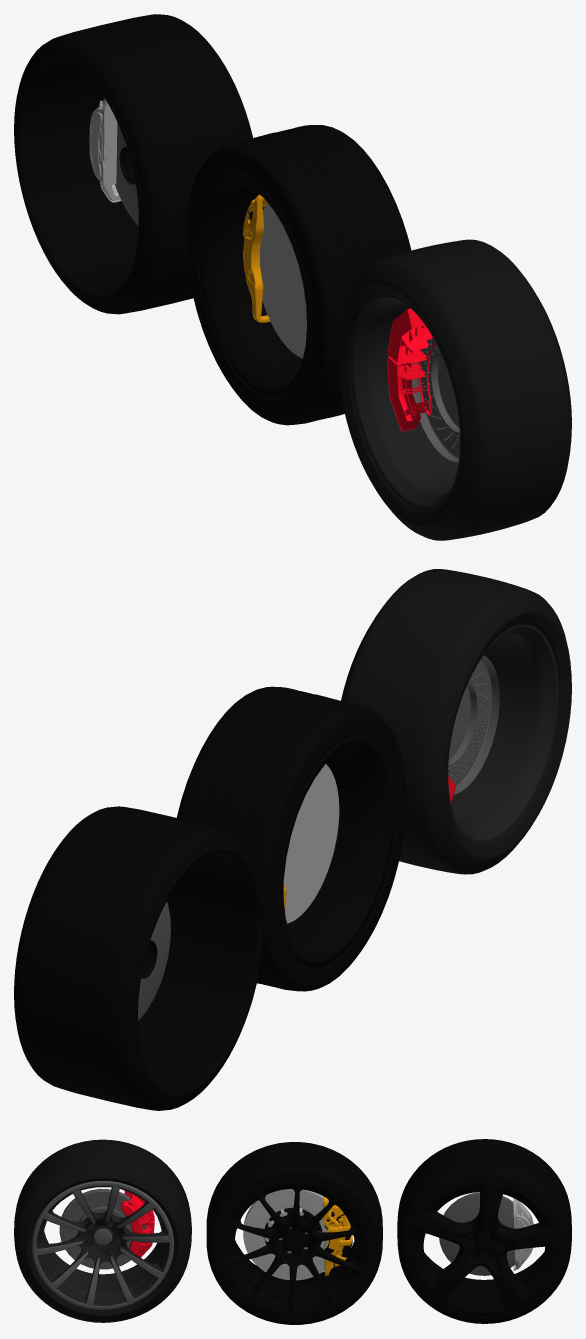
File: wheel-pack.glb
3 renders of one model, top to bottom at view 1: azimuth 30°, elevation 25°; view 2: azimuth 150°, elevation 25°; view 3: azimuth 270°, elevation 25°, orthographic. The views are drawn at different scales.
Parts seen in each view (by area): view 1: Wheel01, Wheel03, Wheel02, wheelbrake01, wheelbrake03, wheelbrake02; view 2: Wheel03, Wheel01, Wheel02; view 3: Wheel02, Wheel03, Wheel01, wheelbrake02, wheelbrake01, wheelbrake03.
Part boxes in pixels (x1=…): Wheel01: x1=338, y1=239, x2=571, y2=540; Wheel03: x1=14, y1=14, x2=252, y2=314; Wheel02: x1=186, y1=125, x2=411, y2=425; wheelbrake01: x1=387, y1=308, x2=435, y2=431; wheelbrake03: x1=89, y1=98, x2=121, y2=202; wheelbrake02: x1=242, y1=194, x2=270, y2=322; Wheel03: x1=14, y1=806, x2=263, y2=1110; Wheel01: x1=341, y1=569, x2=571, y2=874; Wheel02: x1=176, y1=686, x2=406, y2=991; Wheel02: x1=206, y1=1142, x2=382, y2=1324; Wheel03: x1=397, y1=1139, x2=571, y2=1323; Wheel01: x1=14, y1=1139, x2=191, y2=1322; wheelbrake02: x1=323, y1=1196, x2=352, y2=1275; wheelbrake01: x1=121, y1=1191, x2=154, y2=1257; wheelbrake03: x1=513, y1=1198, x2=534, y2=1270.
Bounding box in the file's own units: 0.5493 × 1.14 × 3.56.
